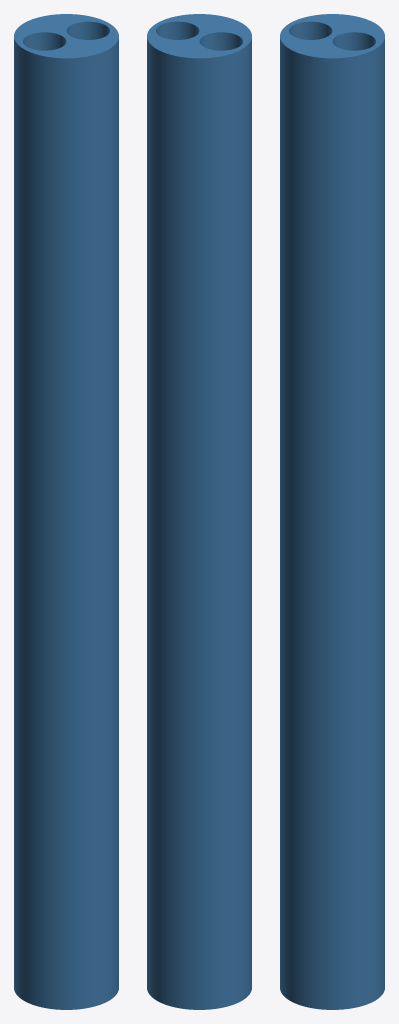
File: DEMO-DUAL-LUMEN-A.glb
3 views of the same model, side by side, from view 1: azimuth 30°, elevation 25°; view 2: azimuth 150°, elevation 25°; view 3: azimuth 330°, elevation 25° (orthographic).
Visible parts, largest first — view 1: dual_lumen_tube; view 2: dual_lumen_tube; view 3: dual_lumen_tube.
Boxes of the visible parts, x1,y1,x2,y2 form: dual_lumen_tube: (14, 14, 118, 1009); dual_lumen_tube: (147, 14, 251, 1009); dual_lumen_tube: (280, 14, 384, 1009).
Size of the model in its own units: 3 by 30 by 3.
